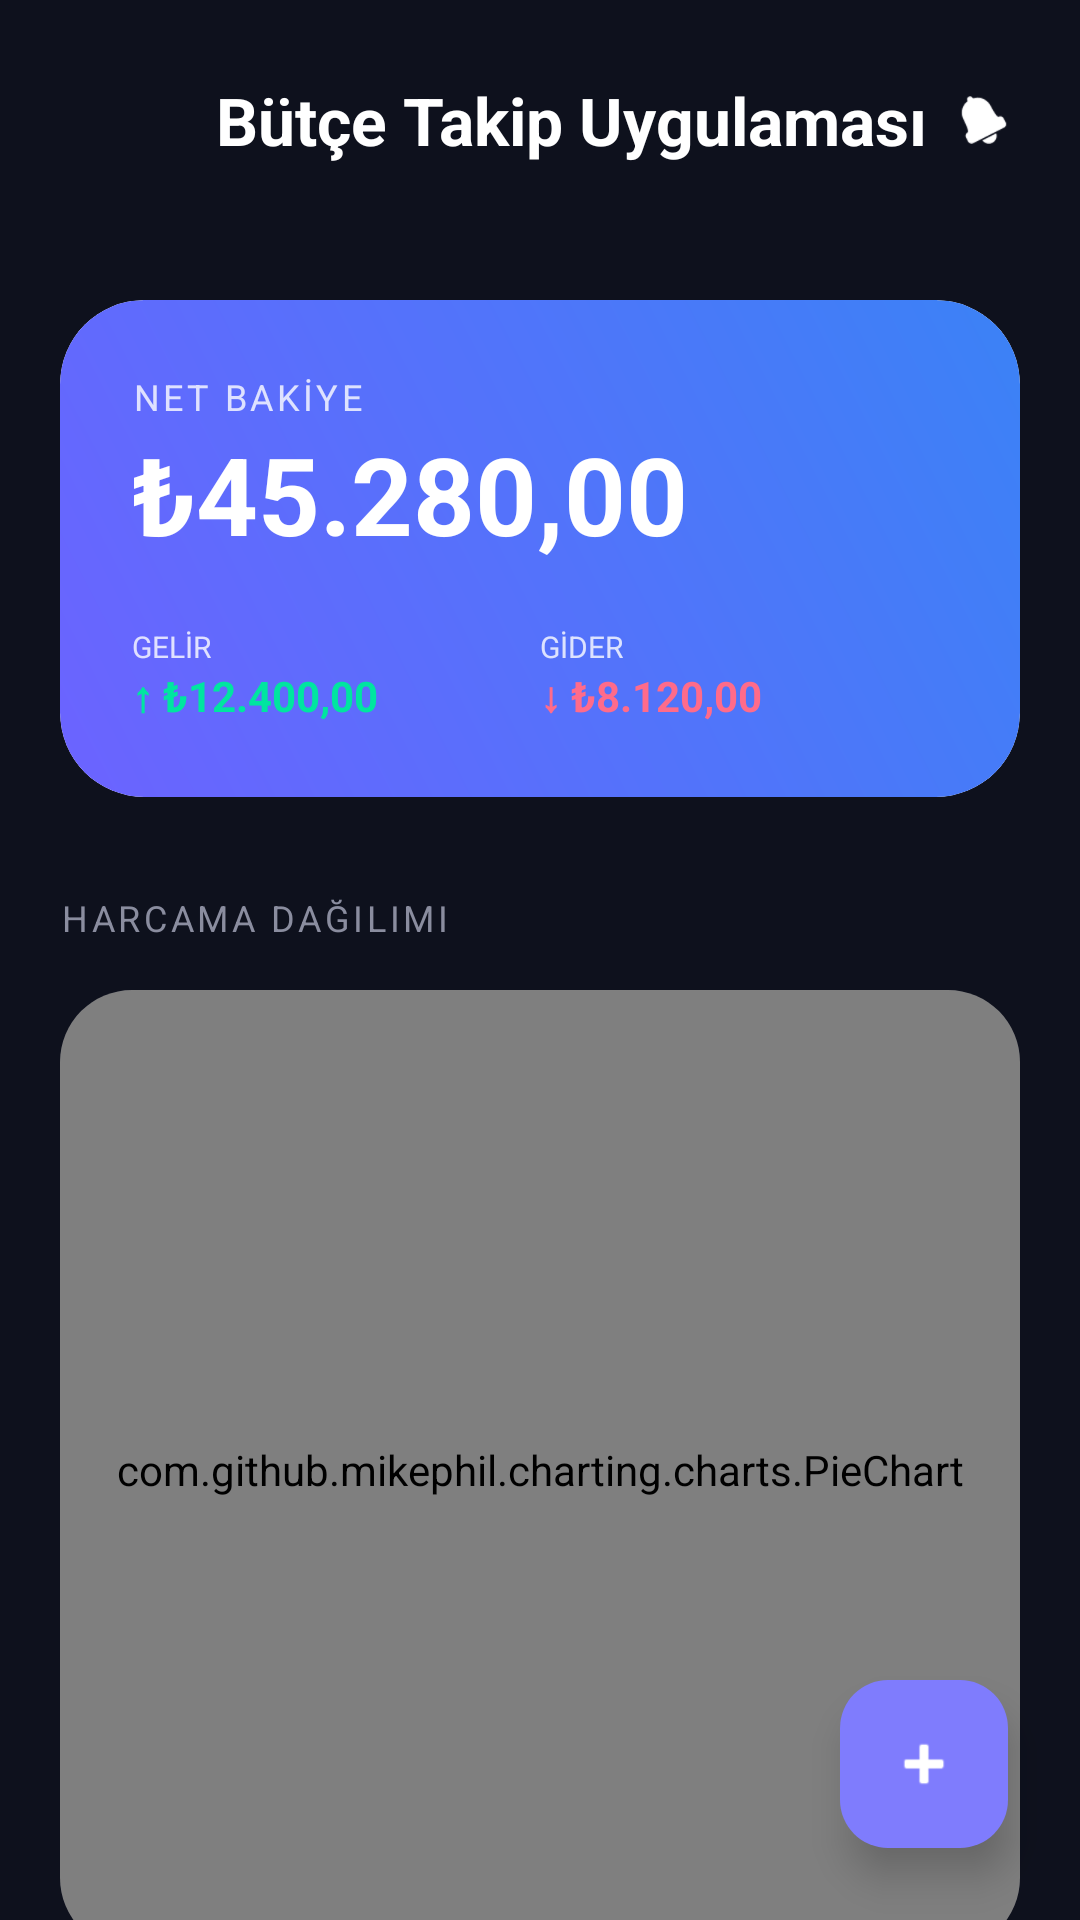

Icons on this 1080px x 1920px Android screen, each with the point to tap as (x,y):
add: (924,1764)
popup reminder: (984,120)
